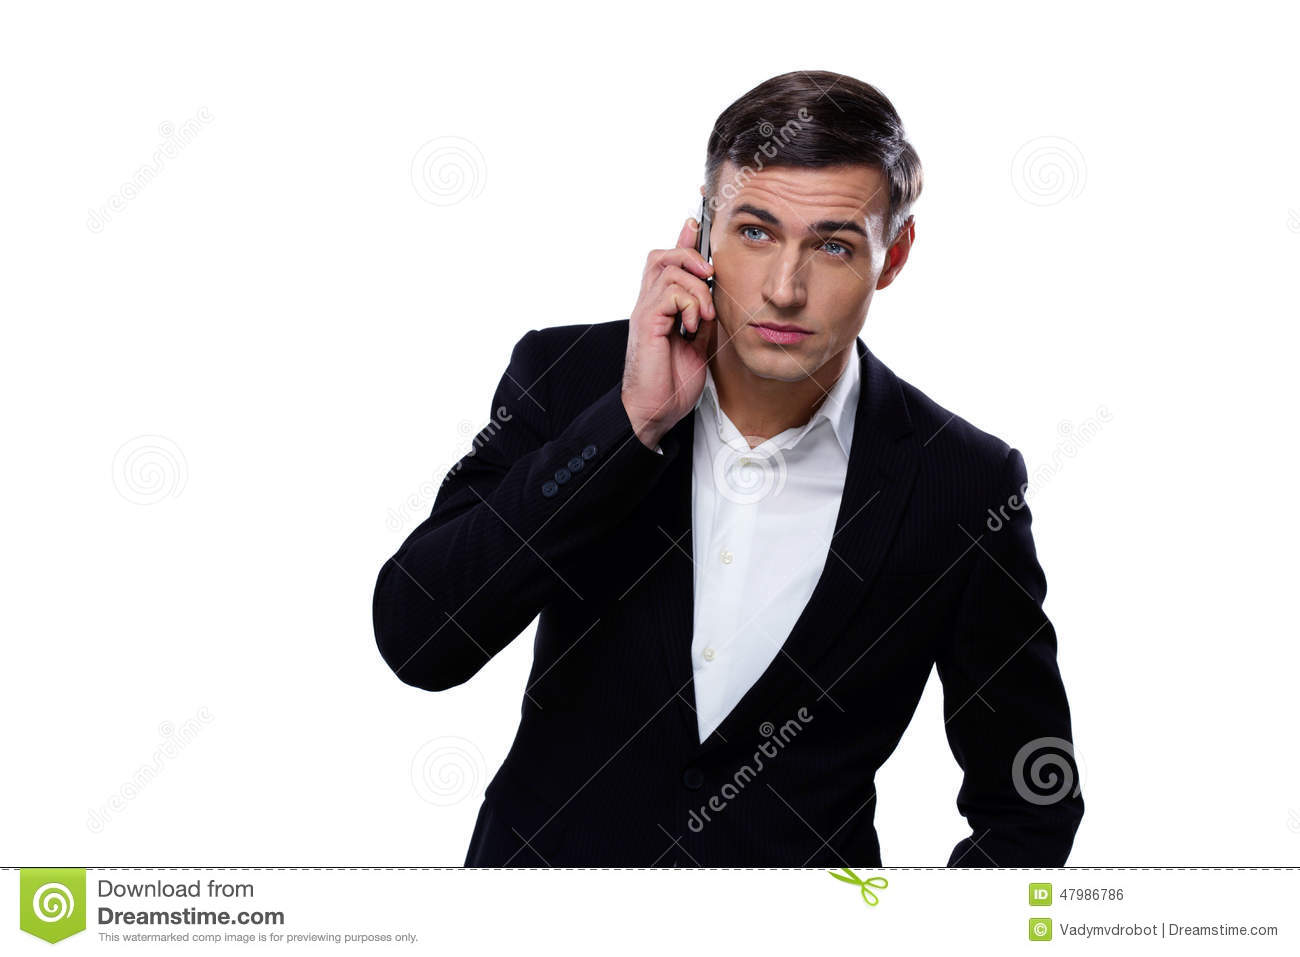phone: (678, 184, 720, 346)
talk: (621, 185, 884, 450)
